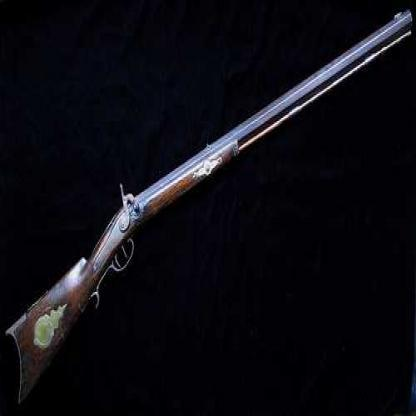Heavy Gun: (11, 0, 416, 406)
